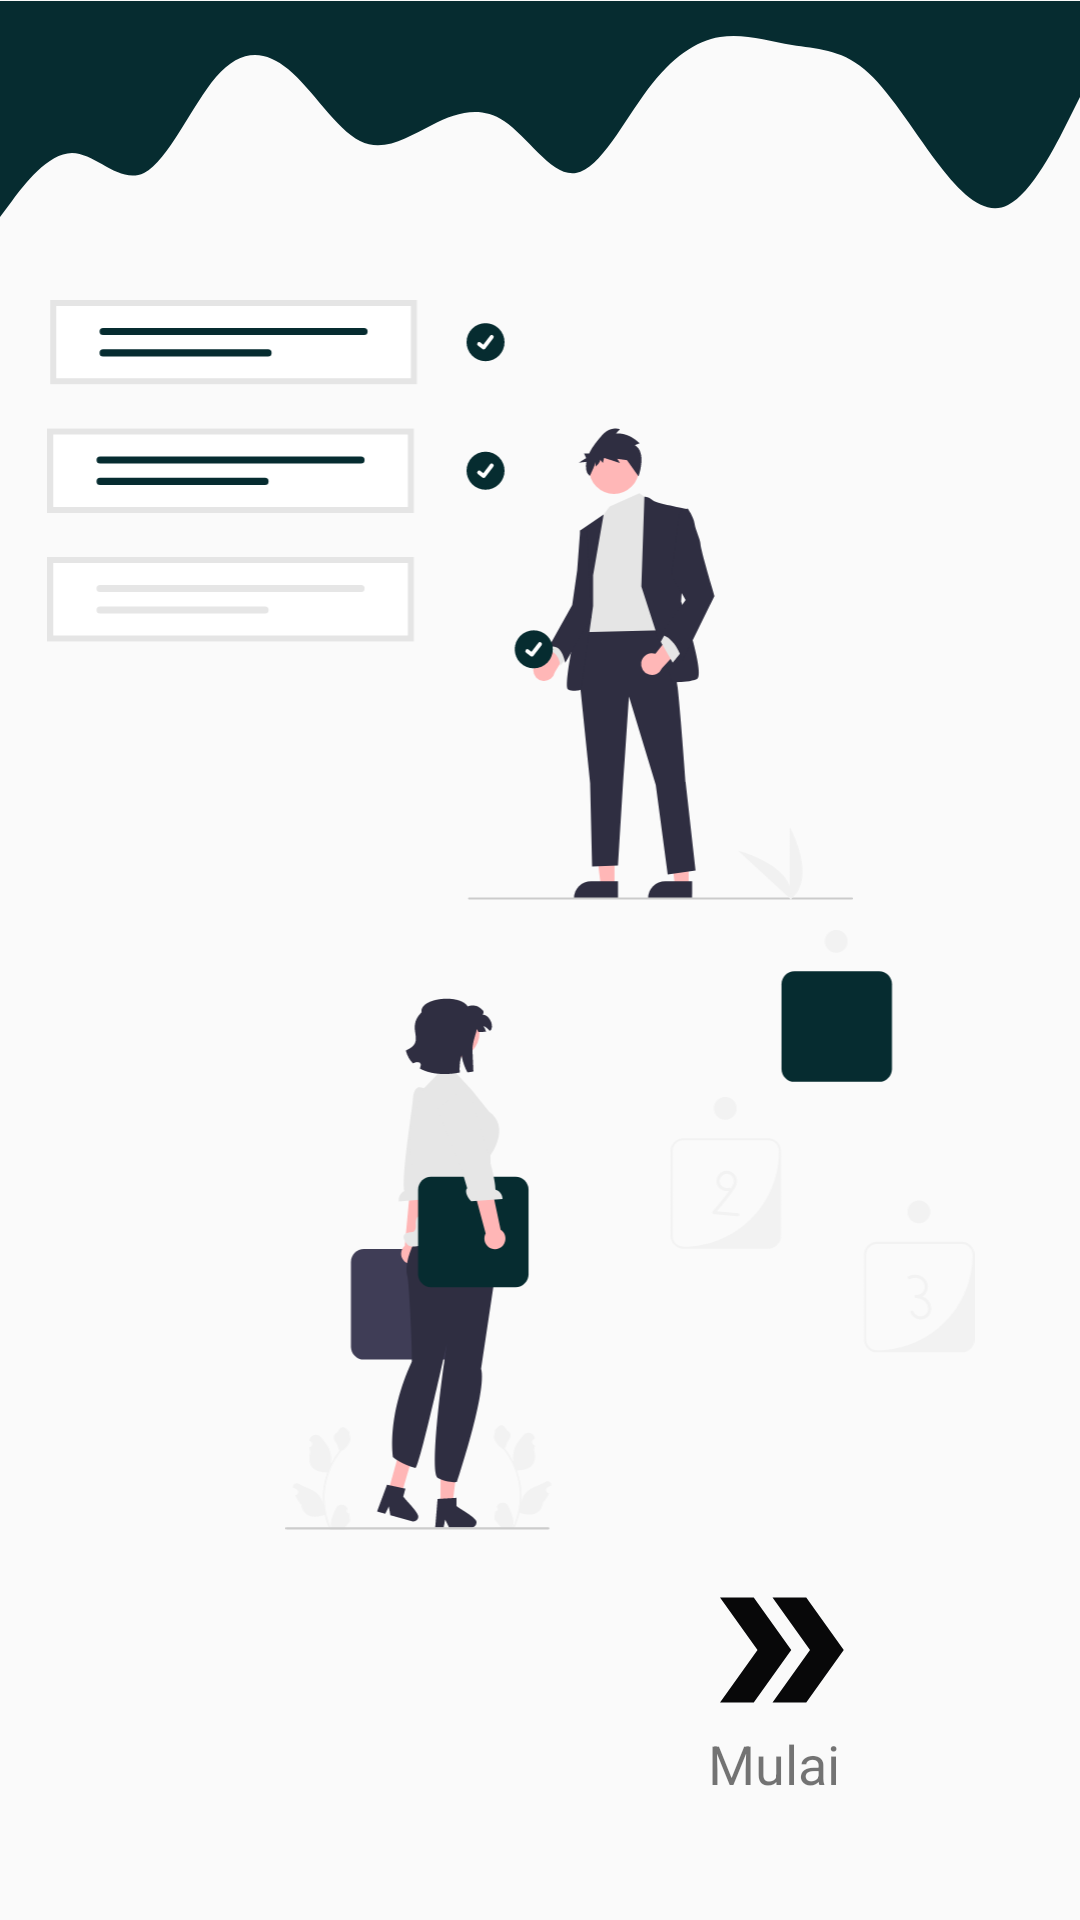

Named icons in this screenshot (1080 × 1920) and their centers, [x,y]:
arrow: [782,1650]
